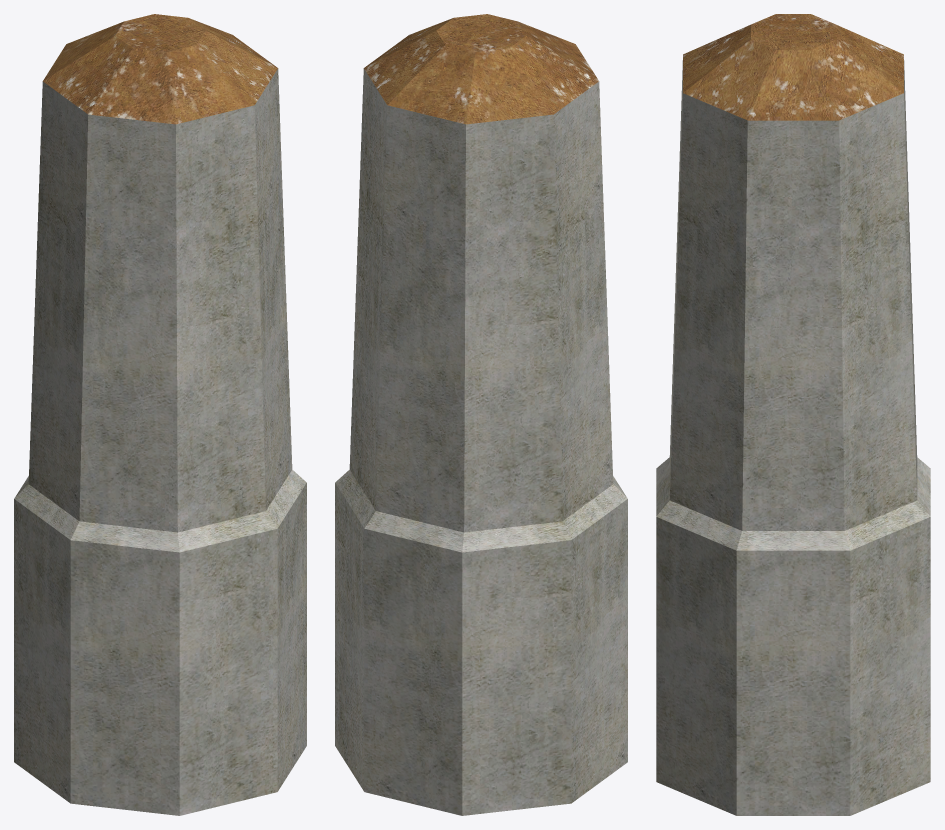
The model's file is mun_all_military_column_med_rebl_s01_l0.fbx.
The picture shows the model from 3 angles, left to right: view 1: azimuth 30°, elevation 25°; view 2: azimuth 150°, elevation 25°; view 3: azimuth 270°, elevation 25°; orthographic projection.
Visible parts, largest first — view 1: mesh_node; view 2: mesh_node; view 3: mesh_node.
Boxes of the visible parts, <box> form: mesh_node: <box>14,14,306,815</box>; mesh_node: <box>335,14,627,815</box>; mesh_node: <box>656,14,930,815</box>.
Bounding box in the file's own units: 2.23 × 6.5 × 2.23.
